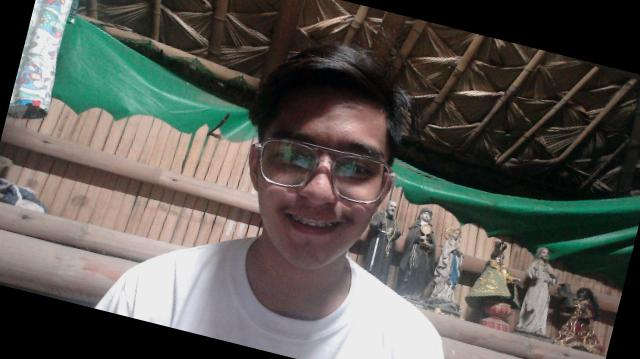senang: (220, 54, 418, 287)
